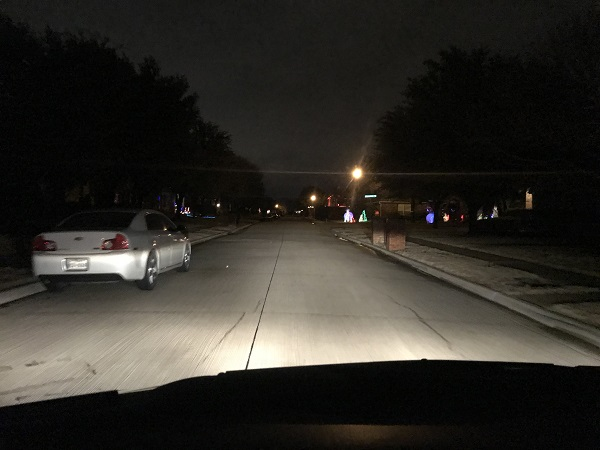car: (31, 201, 194, 292)
